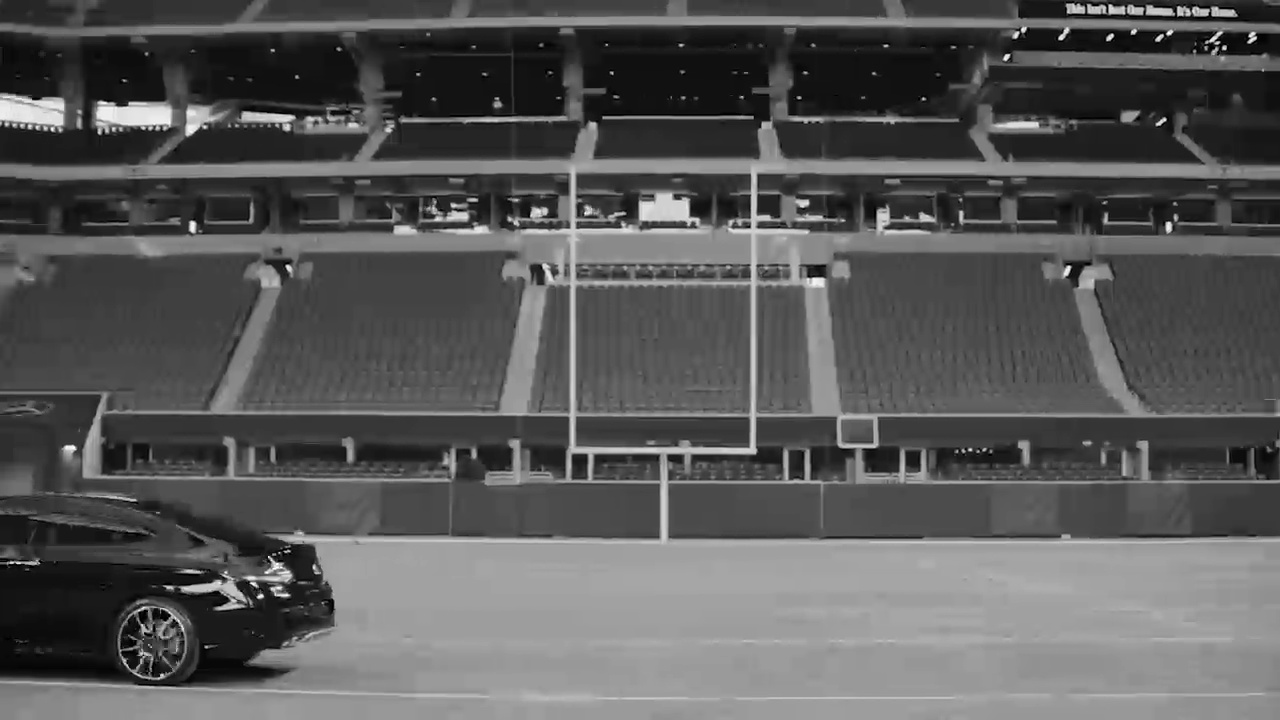car: (1, 483, 342, 689)
